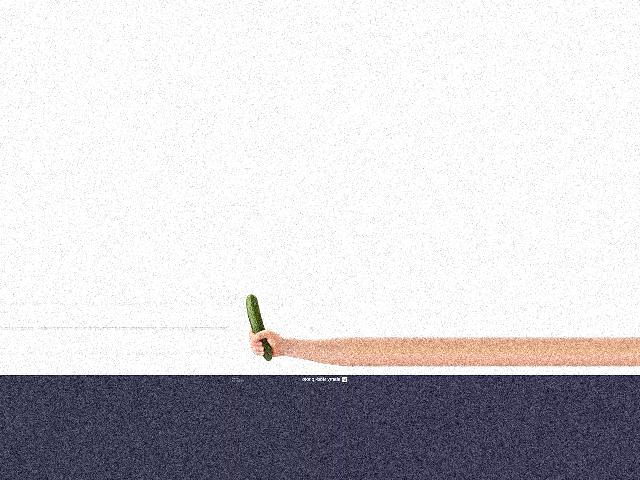cucumber: (245, 294, 271, 361)
